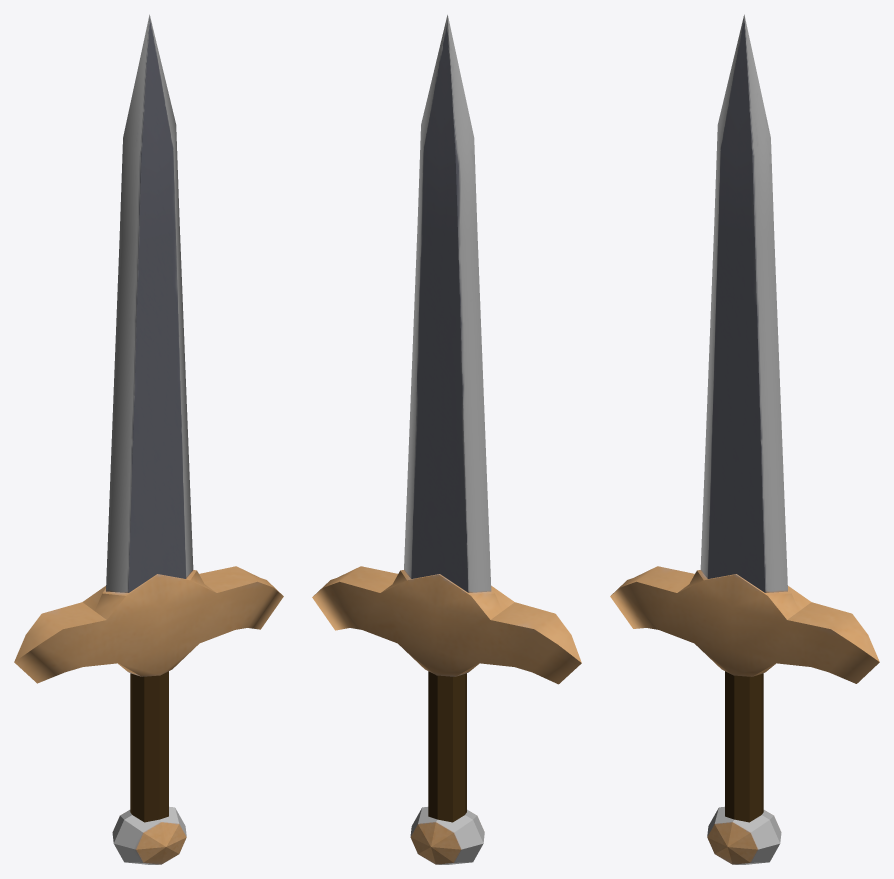
The model's file is claymore.glb.
The picture shows the model from 3 angles, left to right: view 1: azimuth 30°, elevation 25°; view 2: azimuth 150°, elevation 25°; view 3: azimuth 330°, elevation 25°; orthographic projection.
Parts seen in each view (by area): view 1: blade_geo, crossguard_geo, handle_geo, pommel_geo; view 2: blade_geo, crossguard_geo, handle_geo, pommel_geo; view 3: blade_geo, crossguard_geo, handle_geo, pommel_geo.
Boxes of the visible parts, x1,y1,x2,y2 form: blade_geo: [106, 14, 193, 592]; crossguard_geo: [14, 566, 283, 683]; handle_geo: [130, 671, 168, 822]; pommel_geo: [112, 806, 186, 864]; blade_geo: [404, 15, 491, 592]; crossguard_geo: [312, 566, 581, 684]; handle_geo: [428, 671, 466, 822]; pommel_geo: [410, 807, 484, 864]; blade_geo: [700, 14, 787, 592]; crossguard_geo: [610, 566, 879, 683]; handle_geo: [725, 671, 763, 822]; pommel_geo: [707, 806, 781, 864].
Bounding box in the file's own units: 0.0751 × 0.2262 × 0.016.
4 materials, 4 textured.
